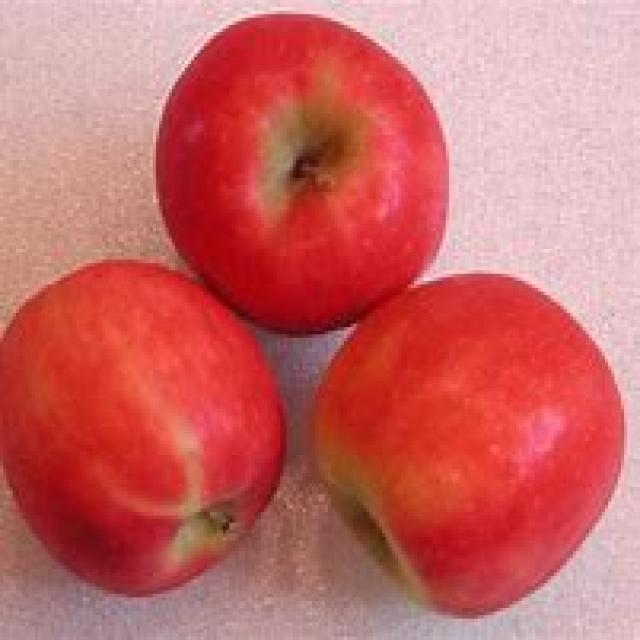apple: (310, 270, 627, 618), (3, 256, 292, 599), (152, 12, 452, 330)
